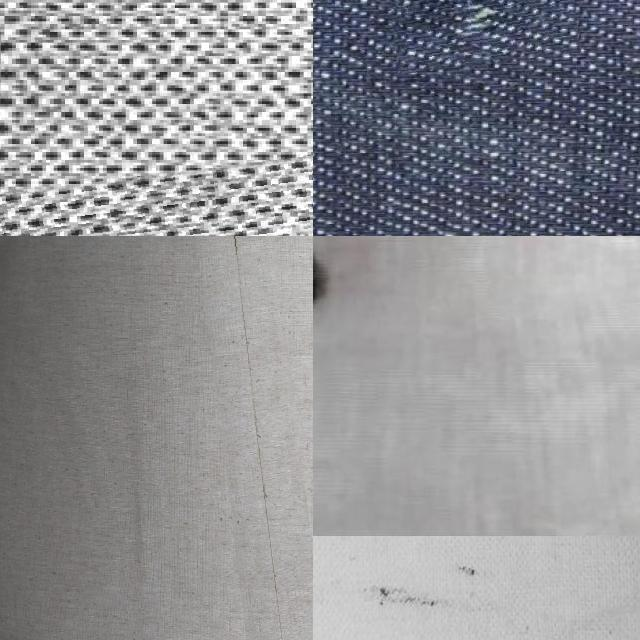Thread_other: (333, 535, 571, 640), (313, 236, 399, 391)
stains: (199, 236, 307, 640), (0, 164, 313, 236), (385, 0, 577, 68)
